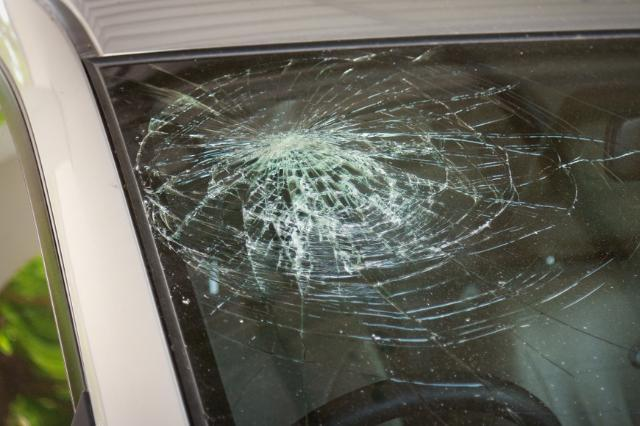Windshield: (91, 26, 640, 426)
